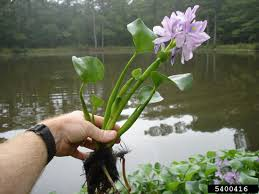water_hyacinth: (65, 4, 213, 186)
